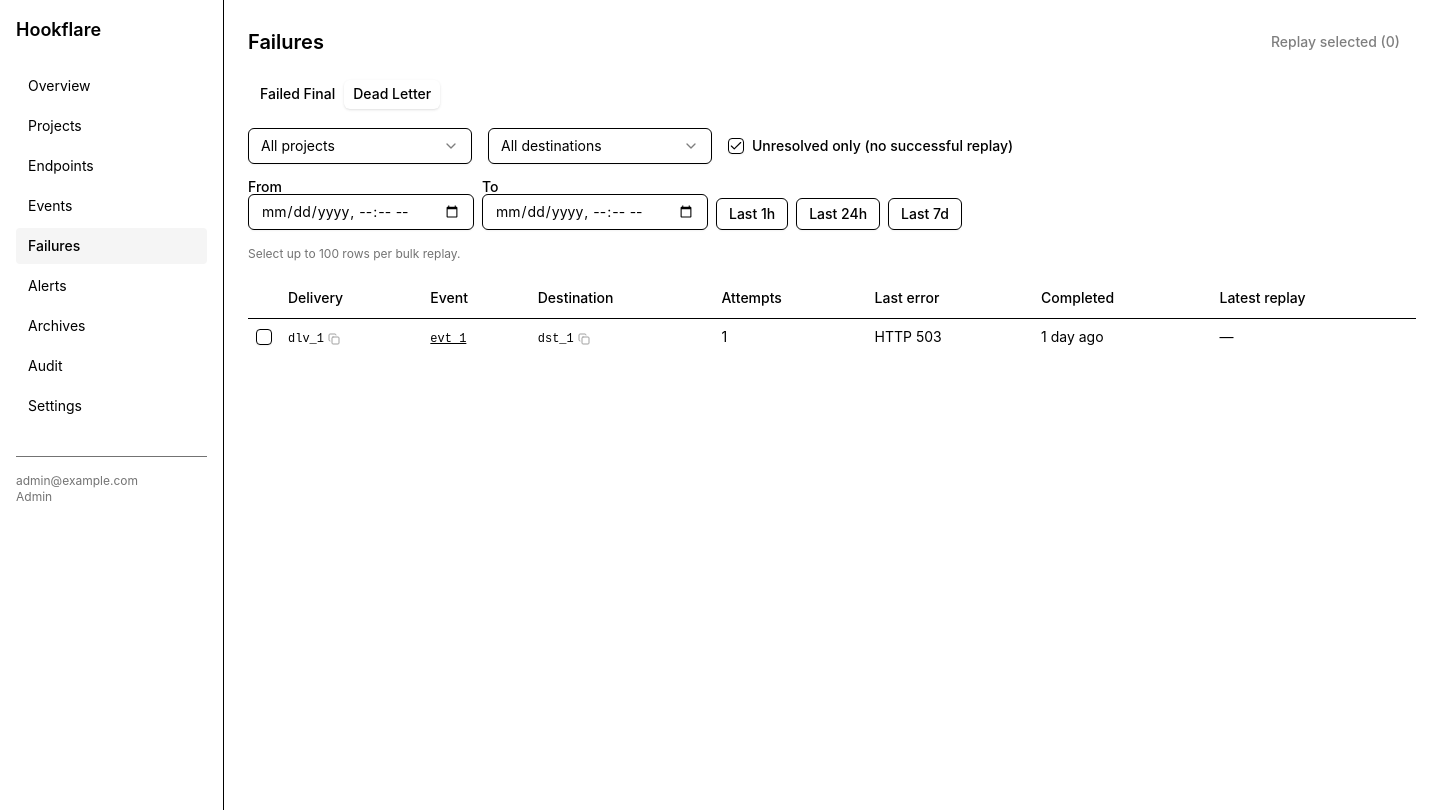
Test: Failures › URL filters (spec §12.2) › applies a time-range preset and clears it
Expected: the text "dlv_1" is shown, left=288, top=330, right=340, bottom=346
What coordinates should you click on to do the following:
click the button "Last 24h"
I would click on:
 (838, 214)
Its box is left=796, top=198, right=880, bottom=230.
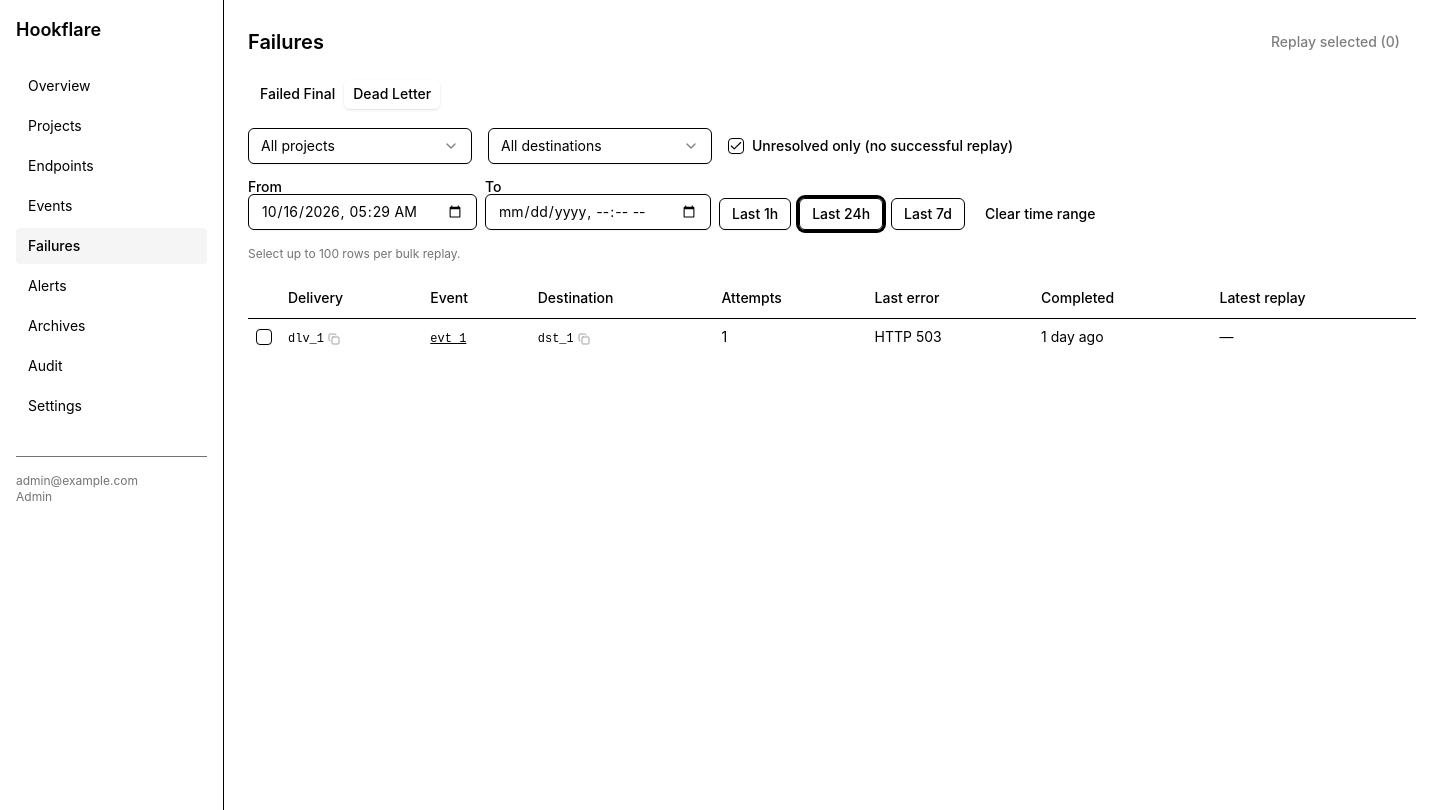
What coordinates should you click on to do the following:
click the button "Clear time range"
I would click on:
 (1040, 214)
Its box is left=973, top=198, right=1108, bottom=230.
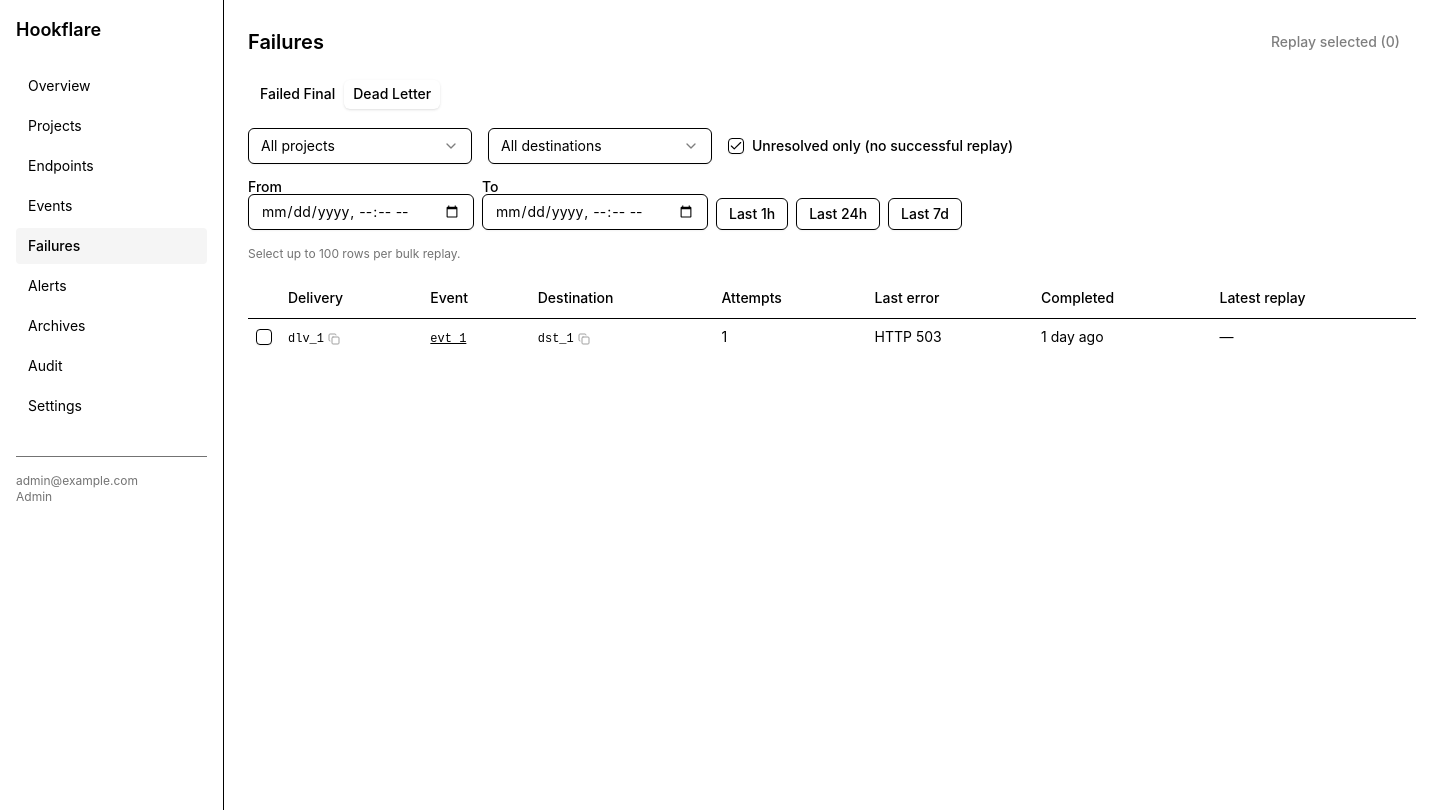
Expected: the field labelled "From" is empty, left=248, top=194, right=474, bottom=230
